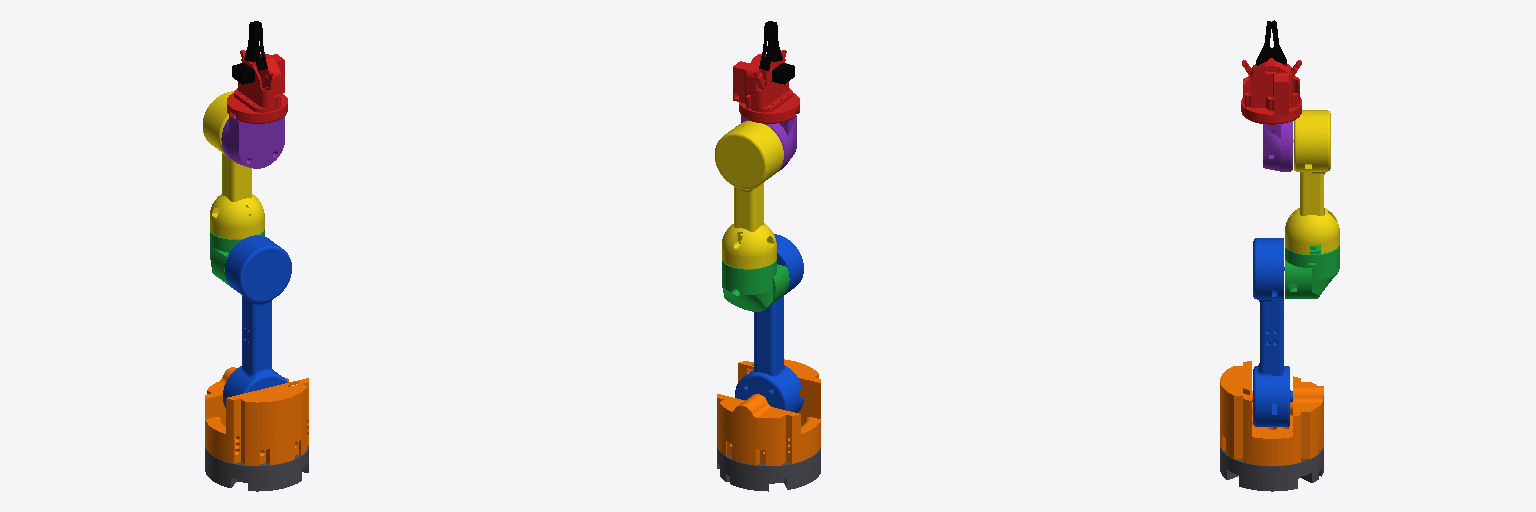
The robot description file, URDF, robot "rk6":
<?xml version="1.0"?>
<!--
  rk6.urdf : rk6.urdf.xacro dosyasinin xacro ile genisletilmis duz URDF kopyasi (Fusion kolu).
  SADECE REFERANS: Launch dosyalari HER ZAMAN rk6.urdf.xacro kullanir. Buradaki gz_ros2_control
  <parameters> yolu yer tutucudur (rk6_controllers.yaml); Gazebo icin xacro surumunu kullanin.
  Mesh yollari package://rk6_description/meshes/... (paket kurulu olmali).
  Yeniden uretmek icin (WSL, ~/rt_ws derlendikten sonra):
    xacro $(ros2 pkg prefix rk6_description)/share/rk6_description/urdf/rk6.urdf.xacro controllers_file:=rk6_controllers.yaml
-->
<!-- =================================================================================== -->
<!-- |    This document was autogenerated by xacro from ~/rt_ws/install/rk6_description/share/rk6_description/urdf/rk6.urdf.xacro | -->
<!-- |    EDITING THIS FILE BY HAND IS NOT RECOMMENDED                                 | -->
<!-- =================================================================================== -->
<!--
  rk6: ogrencinin gercek kolu (Fusion 360 export). Ana Xacro dosyasi.
  Kaynak: Fusion entegrasyon araclari (eklemler: kinematics_spec.json; mesh'ler: mesh_groups.json + mesh_birlestir.py; depoya dahil degil).

  ===================== URDF KURALI =====================
  Sifir pozda (q = 0) kol dimdik yukari bakar ve TUM link cerceveleri base_link ile paraleldir (rpy = 0).
  Eklem eksenleri: J1, J4, J6 = z ; J2, J3, J5 = y. Pozitif q2/q3/q5 kolu +x (one) eger.
  base_link: J1 ekseni uzerinde, taban plakasinin ALT yuzeyi (= zemin, world z = 0). x = kolun one uzandigi yon
             (CAD'de iki on ayagin arasi; ayaklar simulasyonda yok), z yukari.
  tool0: parmak ic yuzeylerinin (pad) ortasi, J6 ekseni uzerinde. z = yaklasma, y = parmak acilma yonu.

     joint  | parent    | child  | origin xyz [m]            | axis
     joint1 | base_link | link1  | 0   0        0.0547       | 0 0 1
     joint2 | link1     | link2  | 0  -0.0308   0.0766       | 0 1 0
     joint3 | link2     | link3  | 0   0.0509   0.22995      | 0 1 0
     joint4 | link3     | link4  | 0   0.0451   0.0508       | 0 0 1
     joint5 | link4     | link5  | 0  -0.0309   0.17915      | 0 1 0
     joint6 | link5     | link6  | 0  -0.0351   0.0508       | 0 0 1
     tool0_joint (fixed) link6 -> tool0 : xyz 0 0 0.15013

  ===================== ESDEGER DH (standart) =====================
  A_i = Rz(theta_i + off_i) Tz(d_i) Tx(a_i) Rx(alpha_i),  base_link_T_tool0 = A1 A2 ... A6  (sabit base/tool donusumu yok)

     i | off_i  | d_i [m]  | a_i [m]  | alpha_i
     1 |   0    |  0.1313  |  0       |  -pi/2
     2 | -pi/2  |  0       |  0.22995 |   0
     3 | +pi/2  |  0.0652  |  0       |  +pi/2
     4 |   0    |  0.22995 |  0       |  -pi/2
     5 |   0    | -0.0660  |  0       |  +pi/2
     6 |   0    |  0.20093 |  0       |   0
  URDF q_i = DH theta_i (offset'ler DH tablosunda). Dogrulama: 200 rastgele q icin URDF FK == DH FK (< 1e-9).

  Geometrik sinif: R ⊢ R ∥ R (articulated); d5 kacikligi nedeniyle bilek kuresel degil.
  ===============================================================
-->
<robot name="rk6">
  <!-- Renkler (her link farkli renk) -->
  <material name="rk6_grey">
    <color rgba="0.35 0.35 0.38 1.0"/>
  </material>
  <material name="rk6_orange">
    <color rgba="1.00 0.50 0.05 1.0"/>
  </material>
  <material name="rk6_blue">
    <color rgba="0.10 0.35 0.85 1.0"/>
  </material>
  <material name="rk6_green">
    <color rgba="0.15 0.70 0.30 1.0"/>
  </material>
  <material name="rk6_yellow">
    <color rgba="0.95 0.85 0.10 1.0"/>
  </material>
  <material name="rk6_purple">
    <color rgba="0.55 0.25 0.75 1.0"/>
  </material>
  <material name="rk6_red">
    <color rgba="0.85 0.15 0.15 1.0"/>
  </material>
  <material name="rk6_black">
    <color rgba="0.05 0.05 0.05 1.0"/>
  </material>
  <!-- +-90 -->
  <!-- ========== world & base ========== -->
  <link name="world"/>
  <joint name="world_joint" type="fixed">
    <parent link="world"/>
    <child link="base_link"/>
    <origin rpy="0 0 0" xyz="0 0 0.0"/>
  </joint>
  <link name="base_link">
    <visual>
      <origin rpy="0 0 0" xyz="0 0 0"/>
      <geometry>
        <mesh filename="package://rk6_description/meshes/base_link.stl"/>
      </geometry>
      <material name="rk6_grey"/>
    </visual>
    <collision>
      <origin rpy="0 0 0" xyz="0.00003 -0.00004 0.02885"/>
      <geometry>
        <box size="0.17000 0.17000 0.05770"/>
      </geometry>
    </collision>
    <inertial>
      <origin rpy="0 0 0" xyz="0.00052 -0.00105 0.02697"/>
      <mass value="0.494"/>
      <inertia ixx="0.0006501" ixy="0" ixz="0" iyy="0.0006501" iyz="0" izz="0.001166"/>
    </inertial>
  </link>
  <!-- ========== joint1 / link1 (taban donusu, dusey eksen) ========== -->
  <joint name="joint1" type="revolute">
    <parent link="base_link"/>
    <child link="link1"/>
    <origin rpy="0 0 0" xyz="0 0 0.0547"/>
    <axis xyz="0 0 1"/>
    <limit effort="100.0" lower="-2.356194" upper="2.356194" velocity="2.0"/>
    <dynamics damping="0.5" friction="0.0"/>
  </joint>
  <link name="link1">
    <visual>
      <origin rpy="0 0 0" xyz="0 0 0"/>
      <geometry>
        <mesh filename="package://rk6_description/meshes/link1.stl"/>
      </geometry>
      <material name="rk6_orange"/>
    </visual>
    <collision>
      <origin rpy="0 0 0" xyz="0.00000 0.00000 0.04810"/>
      <geometry>
        <box size="0.17000 0.17000 0.11400"/>
      </geometry>
    </collision>
    <inertial>
      <origin rpy="0 0 0" xyz="-0.00048 -0.01086 0.04003"/>
      <mass value="0.674"/>
      <inertia ixx="0.001153" ixy="0" ixz="0" iyy="0.001153" iyz="0" izz="0.001591"/>
    </inertial>
  </link>
  <!-- ========== joint2 / link2 (omuz) ========== -->
  <joint name="joint2" type="revolute">
    <parent link="link1"/>
    <child link="link2"/>
    <origin rpy="0 0 0" xyz="0 -0.0308 0.0766"/>
    <axis xyz="0 1 0"/>
    <limit effort="100.0" lower="-1.570796" upper="1.570796" velocity="2.0"/>
    <dynamics damping="0.5" friction="0.0"/>
  </joint>
  <link name="link2">
    <visual>
      <origin rpy="0 0 0" xyz="0 0 0"/>
      <geometry>
        <mesh filename="package://rk6_description/meshes/link2.stl"/>
      </geometry>
      <material name="rk6_blue"/>
    </visual>
    <collision>
      <origin rpy="0 0 0" xyz="0.00000 0.04005 0.11500"/>
      <geometry>
        <box size="0.10000 0.08010 0.33000"/>
      </geometry>
    </collision>
    <inertial>
      <origin rpy="0 0 0" xyz="-0.00007 0.02779 0.11678"/>
      <mass value="0.4205"/>
      <inertia ixx="0.00198" ixy="0" ixz="0" iyy="0.002042" iyz="0" izz="0.0002819"/>
    </inertial>
  </link>
  <!-- ========== joint3 / link3 (dirsek) ========== -->
  <joint name="joint3" type="revolute">
    <parent link="link2"/>
    <child link="link3"/>
    <origin rpy="0 0 0" xyz="0 0.0509 0.22995"/>
    <axis xyz="0 1 0"/>
    <limit effort="60.0" lower="-2.356194" upper="2.356194" velocity="2.0"/>
    <dynamics damping="0.5" friction="0.0"/>
  </joint>
  <link name="link3">
    <visual>
      <origin rpy="0 0 0" xyz="0 0 0"/>
      <geometry>
        <mesh filename="package://rk6_description/meshes/link3.stl"/>
      </geometry>
      <material name="rk6_green"/>
    </visual>
    <collision>
      <origin rpy="0 0 0" xyz="0.00000 0.04505 0.00190"/>
      <geometry>
        <box size="0.10000 0.09010 0.10380"/>
      </geometry>
    </collision>
    <inertial>
      <origin rpy="0 0 0" xyz="-0.00194 0.03969 0.00880"/>
      <mass value="0.2745"/>
      <inertia ixx="0.0002118" ixy="0" ixz="0" iyy="0.0002329" iyz="0" izz="0.0002031"/>
    </inertial>
  </link>
  <!-- ========== joint4 / link4 (on kol donusu) ========== -->
  <joint name="joint4" type="revolute">
    <parent link="link3"/>
    <child link="link4"/>
    <origin rpy="0 0 0" xyz="0 0.0451 0.0508"/>
    <axis xyz="0 0 1"/>
    <limit effort="30.0" lower="-1.570796" upper="1.570796" velocity="2.0"/>
    <dynamics damping="0.3" friction="0.0"/>
  </joint>
  <link name="link4">
    <visual>
      <origin rpy="0 0 0" xyz="0 0 0"/>
      <geometry>
        <mesh filename="package://rk6_description/meshes/link4.stl"/>
      </geometry>
      <material name="rk6_yellow"/>
    </visual>
    <collision>
      <origin rpy="0 0 0" xyz="-0.00005 0.00000 0.11240"/>
      <geometry>
        <box size="0.10000 0.09000 0.23360"/>
      </geometry>
    </collision>
    <inertial>
      <origin rpy="0 0 0" xyz="-0.00039 -0.00076 0.12653"/>
      <mass value="0.35"/>
      <inertia ixx="0.0008955" ixy="0" ixz="0" iyy="0.0009227" iyz="0" izz="0.0002586"/>
    </inertial>
  </link>
  <!-- ========== joint5 / link5 (bilek egilme) ========== -->
  <joint name="joint5" type="revolute">
    <parent link="link4"/>
    <child link="link5"/>
    <origin rpy="0 0 0" xyz="0 -0.0309 0.17915"/>
    <axis xyz="0 1 0"/>
    <limit effort="30.0" lower="-1.570796" upper="1.570796" velocity="2.0"/>
    <dynamics damping="0.3" friction="0.0"/>
  </joint>
  <link name="link5">
    <visual>
      <origin rpy="0 0 0" xyz="0 0 0"/>
      <geometry>
        <mesh filename="package://rk6_description/meshes/link5.stl"/>
      </geometry>
      <material name="rk6_purple"/>
    </visual>
    <collision>
      <origin rpy="0 0 0" xyz="-0.00004 -0.02505 0.00188"/>
      <geometry>
        <box size="0.09999 0.05010 0.10380"/>
      </geometry>
    </collision>
    <inertial>
      <origin rpy="0 0 0" xyz="-0.00253 -0.02710 0.00691"/>
      <mass value="0.199"/>
      <inertia ixx="0.0001079" ixy="0" ixz="0" iyy="0.0001688" iyz="0" izz="0.0001016"/>
    </inertial>
  </link>
  <!-- ========== joint6 / link6 (gripper donusu) ========== -->
  <joint name="joint6" type="revolute">
    <parent link="link5"/>
    <child link="link6"/>
    <origin rpy="0 0 0" xyz="0 -0.0351 0.0508"/>
    <axis xyz="0 0 1"/>
    <limit effort="20.0" lower="-1.570796" upper="1.570796" velocity="2.0"/>
    <dynamics damping="0.2" friction="0.0"/>
  </joint>
  <link name="link6">
    <visual>
      <origin rpy="0 0 0" xyz="0 0 0"/>
      <geometry>
        <mesh filename="package://rk6_description/meshes/link6.stl"/>
      </geometry>
      <material name="rk6_red"/>
    </visual>
    <collision>
      <origin rpy="0 0 0" xyz="0.00140 0.00001 0.04753"/>
      <geometry>
        <box size="0.10299 0.09998 0.09510"/>
      </geometry>
    </collision>
    <inertial>
      <origin rpy="0 0 0" xyz="0.01095 0.00465 0.04043"/>
      <mass value="0.2454"/>
      <inertia ixx="0.0001908" ixy="0" ixz="0" iyy="0.0001969" iyz="0" izz="0.0002064"/>
    </inertial>
  </link>
  <!-- ========== uc-efektor cercevesi tool0 = DH cercevesi 6 (parmak pad ortasi) ========== -->
  <joint name="tool0_joint" type="fixed">
    <parent link="link6"/>
    <child link="tool0"/>
    <origin rpy="0 0 0" xyz="0 0 0.15013"/>
  </joint>
  <link name="tool0">
    <inertial>
      <origin rpy="0 0 0" xyz="0 0 0"/>
      <mass value="0.01"/>
      <inertia ixx="1e-6" ixy="0" ixz="0" iyy="1e-6" iyz="0" izz="1e-6"/>
    </inertial>
  </link>
  <!-- ========== Sensor cerceveleri ========== -->
  <!-- Bilek kamerasi: gripper'in duz -x plaka yuzune (servonun karsi tarafi) disaridan monte
       (kutu plakaya temas eder, ~2 mm gomulu). Kutu merkezi link6'da (-0.0256, 0, 0.075);
       mercek (kutunun +x_camera yuzu) link6'da z = 0.085. Bakis yonu (+x camera) = link6/tool0 +z
       (yaklasma yonu). Goruntu yatay ekseni = parmak acilma yonu (y). -->
  <joint name="camera_joint" type="fixed">
    <parent link="link6"/>
    <child link="camera_link"/>
    <origin rpy="0 -1.5707963267948966 0" xyz="-0.0256 0 0.075"/>
  </joint>
  <link name="camera_link">
    <visual>
      <origin rpy="0 0 0" xyz="0 0 0"/>
      <geometry>
        <box size="0.02 0.035 0.025"/>
      </geometry>
      <material name="rk6_black"/>
    </visual>
    <collision>
      <origin rpy="0 0 0" xyz="0 0 0"/>
      <geometry>
        <box size="0.02 0.035 0.025"/>
      </geometry>
    </collision>
    <inertial>
      <origin rpy="0 0 0" xyz="0 0 0"/>
      <mass value="0.02"/>
      <inertia ixx="1e-6" ixy="0" ixz="0" iyy="1e-6" iyz="0" izz="1e-6"/>
    </inertial>
  </link>
  <!-- IMU: link6 icinde (gripper tabani ustu), eksenleri link6 ile ayni -->
  <joint name="imu_joint" type="fixed">
    <parent link="link6"/>
    <child link="imu_link"/>
    <origin rpy="0 0 0" xyz="0 0 0.03"/>
  </joint>
  <link name="imu_link">
    <inertial>
      <origin rpy="0 0 0" xyz="0 0 0"/>
      <mass value="0.01"/>
      <inertia ixx="1e-6" ixy="0" ixz="0" iyy="1e-6" iyz="0" izz="1e-6"/>
    </inertial>
  </link>
  <joint name="gripper_left_finger_joint" type="prismatic">
    <parent link="link6"/>
    <child link="gripper_left_finger"/>
    <origin rpy="0 0 0" xyz="0 0 0"/>
    <axis xyz="0 1 0"/>
    <!-- Sinirlarda kucuk pay: parmak 0'da dururken fizik motoru -1e-19 gibi degerler
           raporlar; sinir tam 0 olursa ros2_control limit korumasi komutu engelliyor -->
    <limit effort="20.0" lower="-0.002" upper="0.025" velocity="0.1"/>
    <dynamics damping="1.0" friction="0.0"/>
  </joint>
  <link name="gripper_left_finger">
    <visual>
      <origin rpy="0 0 0" xyz="0 0 0"/>
      <geometry>
        <mesh filename="package://rk6_description/meshes/gripper_left_finger.stl"/>
      </geometry>
      <material name="rk6_black"/>
    </visual>
    <!-- carpisma: sadece parmak ucu pad'i (kavrama yuzeyi) -->
    <collision>
      <origin rpy="0 0 0" xyz="-0.0029 0.004 0.143"/>
      <geometry>
        <box size="0.015 0.008 0.036"/>
      </geometry>
    </collision>
    <inertial>
      <origin rpy="0 0 0" xyz="-0.00288 0.00475 0.12027"/>
      <mass value="0.02"/>
      <inertia ixx="1e-05" ixy="0" ixz="0" iyy="1e-05" iyz="0" izz="1e-05"/>
    </inertial>
  </link>
  <!-- Kavrama icin yuksek surtunme ve sert temas (nesne parmaklar arasindan kaymasin) -->
  <gazebo reference="gripper_left_finger">
    <mu1>1.5</mu1>
    <mu2>1.5</mu2>
    <kp>1000000.0</kp>
    <kd>100.0</kd>
    <minDepth>0.001</minDepth>
    <maxVel>0.1</maxVel>
  </gazebo>
  <joint name="gripper_right_finger_joint" type="prismatic">
    <parent link="link6"/>
    <child link="gripper_right_finger"/>
    <origin rpy="0 0 0" xyz="0 0 0"/>
    <axis xyz="0 -1 0"/>
    <!-- Sinirlarda kucuk pay: parmak 0'da dururken fizik motoru -1e-19 gibi degerler
           raporlar; sinir tam 0 olursa ros2_control limit korumasi komutu engelliyor -->
    <limit effort="20.0" lower="-0.002" upper="0.025" velocity="0.1"/>
    <dynamics damping="1.0" friction="0.0"/>
  </joint>
  <link name="gripper_right_finger">
    <visual>
      <origin rpy="0 0 0" xyz="0 0 0"/>
      <geometry>
        <mesh filename="package://rk6_description/meshes/gripper_right_finger.stl"/>
      </geometry>
      <material name="rk6_black"/>
    </visual>
    <!-- carpisma: sadece parmak ucu pad'i (kavrama yuzeyi) -->
    <collision>
      <origin rpy="0 0 0" xyz="-0.0029 -0.004 0.143"/>
      <geometry>
        <box size="0.015 0.008 0.036"/>
      </geometry>
    </collision>
    <inertial>
      <origin rpy="0 0 0" xyz="-0.00288 -0.00470 0.12024"/>
      <mass value="0.02"/>
      <inertia ixx="1e-05" ixy="0" ixz="0" iyy="1e-05" iyz="0" izz="1e-05"/>
    </inertial>
  </link>
  <!-- Kavrama icin yuksek surtunme ve sert temas (nesne parmaklar arasindan kaymasin) -->
  <gazebo reference="gripper_right_finger">
    <mu1>1.5</mu1>
    <mu2>1.5</mu2>
    <kp>1000000.0</kp>
    <kd>100.0</kd>
    <minDepth>0.001</minDepth>
    <maxVel>0.1</maxVel>
  </gazebo>
  <!-- ========== kavrama noktasi (TCP) = tool0 ========== -->
  <joint name="gripper_tcp_joint" type="fixed">
    <parent link="tool0"/>
    <child link="gripper_tcp"/>
    <origin rpy="0 0 0" xyz="0 0 0"/>
  </joint>
  <link name="gripper_tcp">
    <inertial>
      <origin rpy="0 0 0" xyz="0 0 0"/>
      <mass value="0.001"/>
      <inertia ixx="1e-6" ixy="0" ixz="0" iyy="1e-6" iyz="0" izz="1e-6"/>
    </inertial>
  </link>
  <ros2_control name="GazeboSimSystem" type="system">
    <hardware>
      <plugin>gz_ros2_control/GazeboSimSystem</plugin>
    </hardware>
    <joint name="joint1">
      <command_interface name="position">
        <param name="min">-2.356194</param>
        <param name="max">2.356194</param>
      </command_interface>
      <state_interface name="position">
        <param name="initial_value">0.0</param>
      </state_interface>
      <state_interface name="velocity"/>
      <state_interface name="effort"/>
    </joint>
    <joint name="joint2">
      <command_interface name="position">
        <param name="min">-1.570796</param>
        <param name="max">1.570796</param>
      </command_interface>
      <state_interface name="position">
        <param name="initial_value">0.0</param>
      </state_interface>
      <state_interface name="velocity"/>
      <state_interface name="effort"/>
    </joint>
    <joint name="joint3">
      <command_interface name="position">
        <param name="min">-2.356194</param>
        <param name="max">2.356194</param>
      </command_interface>
      <state_interface name="position">
        <param name="initial_value">0.0</param>
      </state_interface>
      <state_interface name="velocity"/>
      <state_interface name="effort"/>
    </joint>
    <joint name="joint4">
      <command_interface name="position">
        <param name="min">-1.570796</param>
        <param name="max">1.570796</param>
      </command_interface>
      <state_interface name="position">
        <param name="initial_value">0.0</param>
      </state_interface>
      <state_interface name="velocity"/>
      <state_interface name="effort"/>
    </joint>
    <joint name="joint5">
      <command_interface name="position">
        <param name="min">-1.570796</param>
        <param name="max">1.570796</param>
      </command_interface>
      <state_interface name="position">
        <param name="initial_value">0.0</param>
      </state_interface>
      <state_interface name="velocity"/>
      <state_interface name="effort"/>
    </joint>
    <joint name="joint6">
      <command_interface name="position">
        <param name="min">-1.570796</param>
        <param name="max">1.570796</param>
      </command_interface>
      <state_interface name="position">
        <param name="initial_value">0.0</param>
      </state_interface>
      <state_interface name="velocity"/>
      <state_interface name="effort"/>
    </joint>
    <joint name="gripper_left_finger_joint">
      <command_interface name="position">
        <param name="min">-0.002</param>
        <param name="max">0.025</param>
      </command_interface>
      <state_interface name="position">
        <param name="initial_value">0.0</param>
      </state_interface>
      <state_interface name="velocity"/>
      <state_interface name="effort"/>
    </joint>
    <joint name="gripper_right_finger_joint">
      <command_interface name="position">
        <param name="min">-0.002</param>
        <param name="max">0.025</param>
      </command_interface>
      <state_interface name="position">
        <param name="initial_value">0.0</param>
      </state_interface>
      <state_interface name="velocity"/>
      <state_interface name="effort"/>
    </joint>
  </ros2_control>
  <!-- ros2_control <-> Gazebo baglantisi (controller_manager bu eklenti icinde calisir) -->
  <gazebo>
    <plugin filename="gz_ros2_control-system" name="gz_ros2_control::GazeboSimROS2ControlPlugin">
      <parameters>rk6_controllers.yaml</parameters>
    </plugin>
  </gazebo>
  <!-- Simulatorden olculen (ground-truth) link pozlari: /rk6/pose (gz.msgs.Pose_V)
       ros_gz_bridge ile ROS'ta /gz_link_poses (tf2_msgs/TFMessage) olarak okunur.
       Her poz model cercevesine (rk6) goredir; FK hata analizinde
       base_T_tool0 = (model_T_base_link)^-1 * model_T_tool0 hesaplanir. -->
  <gazebo>
    <plugin filename="gz-sim-pose-publisher-system" name="gz::sim::systems::PosePublisher">
      <publish_link_pose>true</publish_link_pose>
      <publish_sensor_pose>false</publish_sensor_pose>
      <publish_collision_pose>false</publish_collision_pose>
      <publish_visual_pose>false</publish_visual_pose>
      <publish_nested_model_pose>false</publish_nested_model_pose>
      <use_pose_vector_msg>true</use_pose_vector_msg>
      <static_publisher>false</static_publisher>
      <update_frequency>50</update_frequency>
    </plugin>
  </gazebo>
  <!-- tool0 (ve base_link) Gazebo'da ayri link olarak kalsin: sabit eklem birlestirmesini (lumping) engelle.
       Boylece PosePublisher dogrudan tool0 pozunu yayinlar. -->
  <gazebo reference="tool0_joint">
    <preserveFixedJoint>true</preserveFixedJoint>
  </gazebo>
  <!-- Bilek kamerasi -> gz konu: /wrist_camera/image (+ /wrist_camera/camera_info) -->
  <gazebo reference="camera_link">
    <sensor name="wrist_camera" type="camera">
      <always_on>1</always_on>
      <update_rate>30</update_rate>
      <visualize>true</visualize>
      <topic>wrist_camera/image</topic>
      <gz_frame_id>camera_link</gz_frame_id>
      <camera>
        <horizontal_fov>1.047</horizontal_fov>
        <image>
          <width>640</width>
          <height>480</height>
          <format>R8G8B8</format>
        </image>
        <clip>
          <near>0.02</near>
          <far>50.0</far>
        </clip>
      </camera>
    </sensor>
  </gazebo>
  <!-- IMU -> gz konu: /imu -->
  <gazebo reference="imu_link">
    <sensor name="imu_sensor" type="imu">
      <always_on>1</always_on>
      <update_rate>100</update_rate>
      <visualize>true</visualize>
      <topic>imu</topic>
      <gz_frame_id>imu_link</gz_frame_id>
    </sensor>
  </gazebo>
</robot>

--- Facts derived from the render (not from the file) ---
The picture shows the robot from 3 angles, left to right: view 1: azimuth 30°, elevation 25°; view 2: azimuth 150°, elevation 25°; view 3: azimuth 270°, elevation 25°; orthographic projection.
Model rk6 with 14 links and 13 joints (6 revolute, 2 prismatic, 5 fixed), rooted at world, posed every joint at zero.
Visible links, largest first — view 1: link1, link2, link4, link6, base_link, link5, link3; view 2: link1, link4, link2, link6, link3, base_link, link5; view 3: link1, link2, link4, link6, base_link, link3, link5.
Boxes of the visible links, <box> form: link1: <box>205,367,308,465</box>; link2: <box>223,235,291,407</box>; link4: <box>203,91,264,238</box>; link6: <box>227,50,287,123</box>; base_link: <box>205,446,308,491</box>; link5: <box>221,116,284,168</box>; link3: <box>210,229,264,287</box>; link1: <box>717,359,820,465</box>; link4: <box>715,121,783,268</box>; link2: <box>735,234,803,412</box>; link6: <box>733,50,799,123</box>; link3: <box>722,259,789,311</box>; base_link: <box>717,445,820,491</box>; link5: <box>741,114,796,171</box>; link1: <box>1220,361,1323,465</box>; link2: <box>1253,238,1292,426</box>; link4: <box>1285,110,1339,254</box>; link6: <box>1241,58,1301,124</box>; base_link: <box>1220,446,1323,491</box>; link3: <box>1285,244,1339,298</box>; link5: <box>1263,121,1292,171</box>.
Bounding box of the posed robot: 0.17 × 0.1952 × 0.8035 m (x, y, z).
9 mesh visuals loaded from 9 distinct referenced files (9 binary STL).
